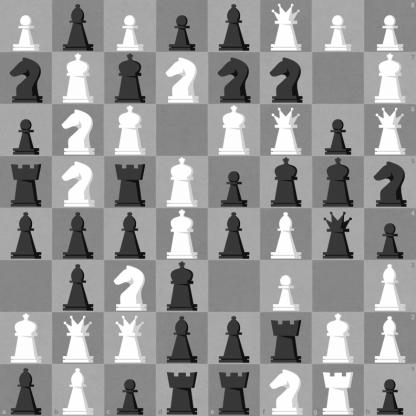B: (52, 364, 104, 416), (364, 260, 416, 312), (364, 312, 416, 364), (261, 209, 312, 260)
K: (364, 52, 416, 104), (1, 313, 52, 364), (53, 53, 104, 104), (105, 105, 156, 156), (157, 157, 208, 208), (157, 209, 208, 260), (209, 105, 260, 156), (313, 313, 364, 364)
N: (260, 364, 312, 416), (53, 105, 104, 156), (53, 157, 104, 208), (105, 261, 156, 312), (157, 53, 208, 104)
P: (364, 0, 416, 52), (1, 1, 52, 52), (105, 1, 156, 52), (261, 261, 312, 312), (313, 1, 364, 52)
Q: (364, 104, 416, 156), (53, 313, 104, 364), (105, 313, 156, 364), (261, 1, 312, 52), (261, 105, 312, 156)
R: (312, 364, 364, 416)
b: (0, 364, 52, 416), (1, 209, 52, 260), (53, 1, 104, 52), (53, 209, 104, 260), (53, 261, 104, 312), (105, 209, 156, 260), (157, 313, 208, 364), (209, 1, 260, 52), (209, 209, 260, 260), (209, 313, 260, 364)
board: (0, 0, 415, 415)
k: (105, 53, 156, 104), (157, 261, 208, 312), (261, 157, 312, 208), (313, 157, 364, 208)
n: (364, 156, 416, 209), (1, 53, 52, 104), (209, 53, 260, 104), (261, 53, 312, 104)
p: (104, 364, 156, 416), (364, 364, 416, 416), (364, 209, 416, 260), (1, 105, 52, 156), (157, 1, 208, 52), (209, 157, 260, 208), (313, 105, 364, 156)
q: (313, 209, 364, 260)
r: (156, 364, 209, 416), (209, 364, 260, 416), (1, 157, 52, 208), (105, 157, 156, 208), (261, 313, 312, 364)
